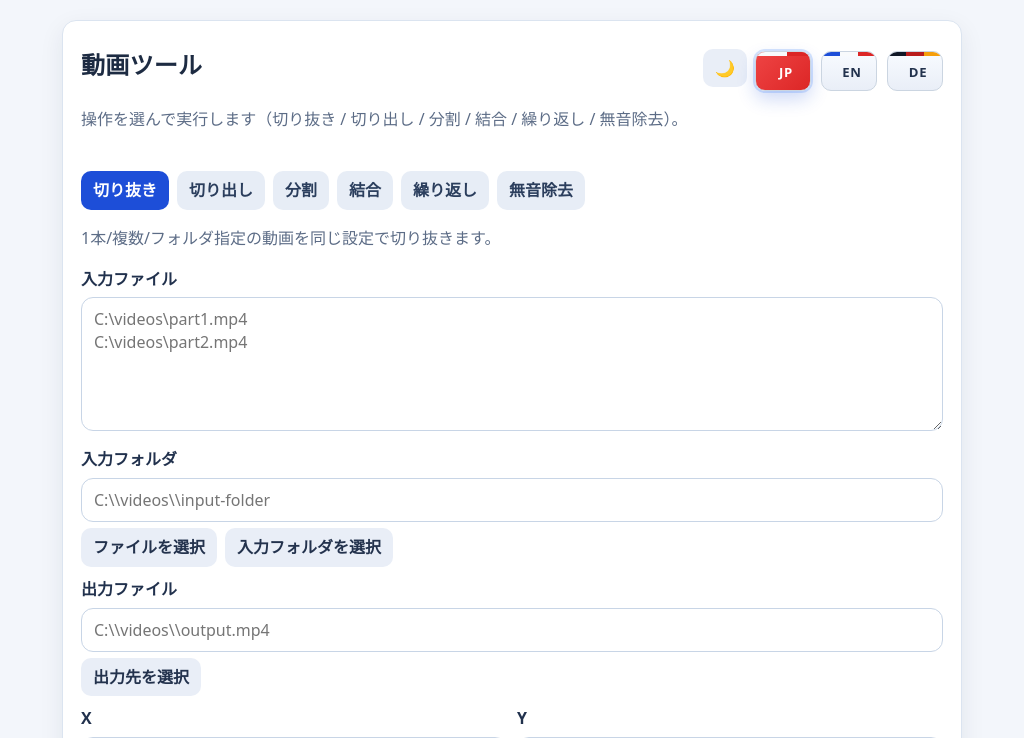
Test: shows separate file and folder buttons and fills input files from a selected folder
The width and height of the screenshot is (1024, 738).
expect the button "ファイルを選択" is shown: met, box [81, 528, 217, 567]
What coordinates should you click on to do the following:
click the button "入力フォルダを選択"
I would click on:
 (309, 548)
Its box is [225, 528, 393, 567].
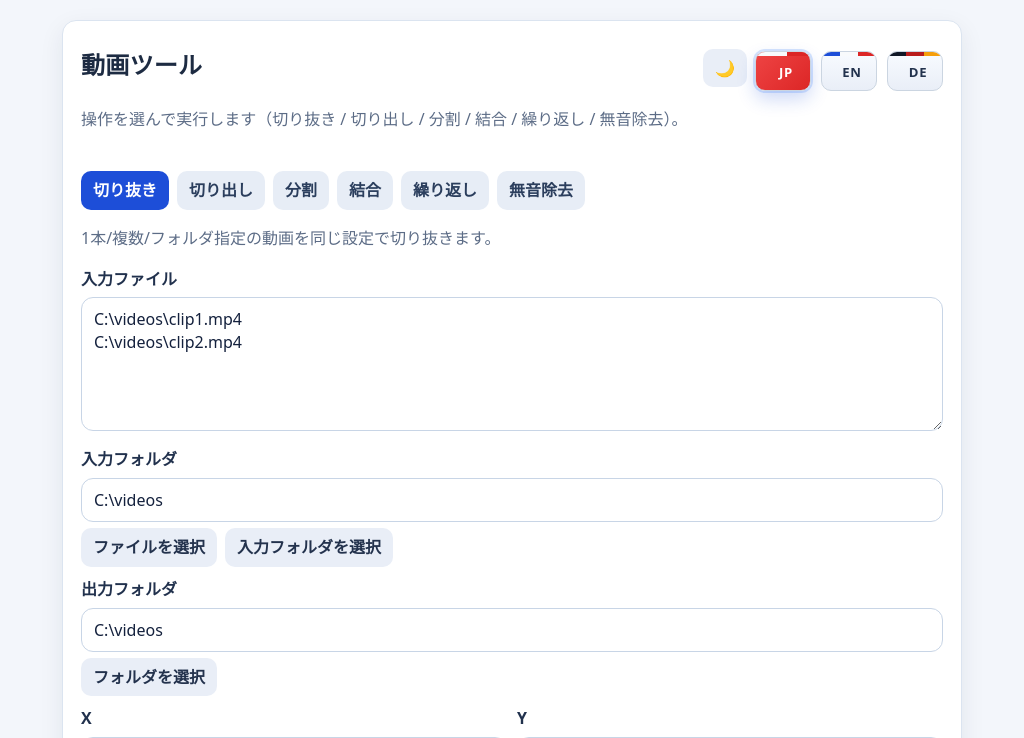
expect the field labelled "入力フォルダ" holds "C:\\videos": met, box [81, 478, 943, 522]
